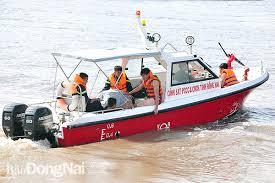Ship: (3, 43, 270, 147)
